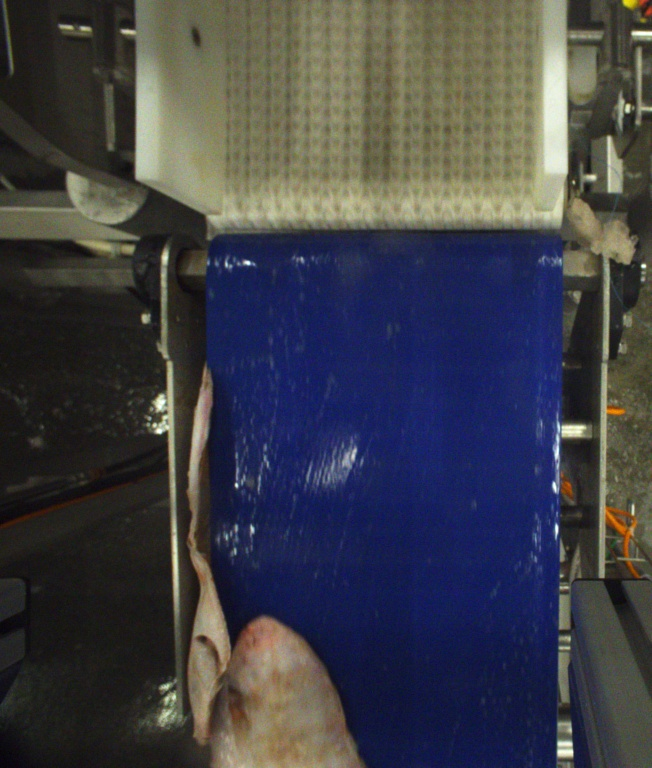SOL: (212, 613, 368, 768)
